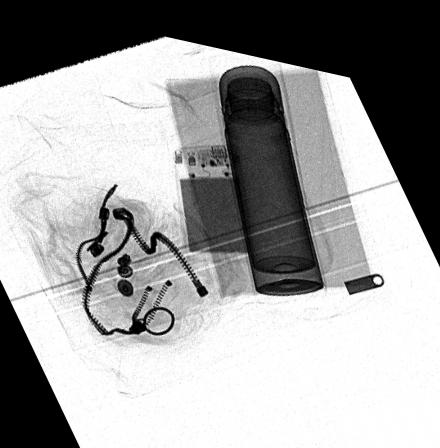Powerbank: (172, 135, 257, 251)
